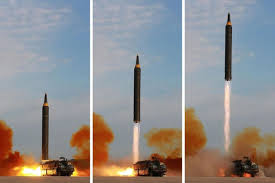ten_lua: (37, 92, 55, 164), (222, 12, 234, 81), (132, 55, 143, 126)
